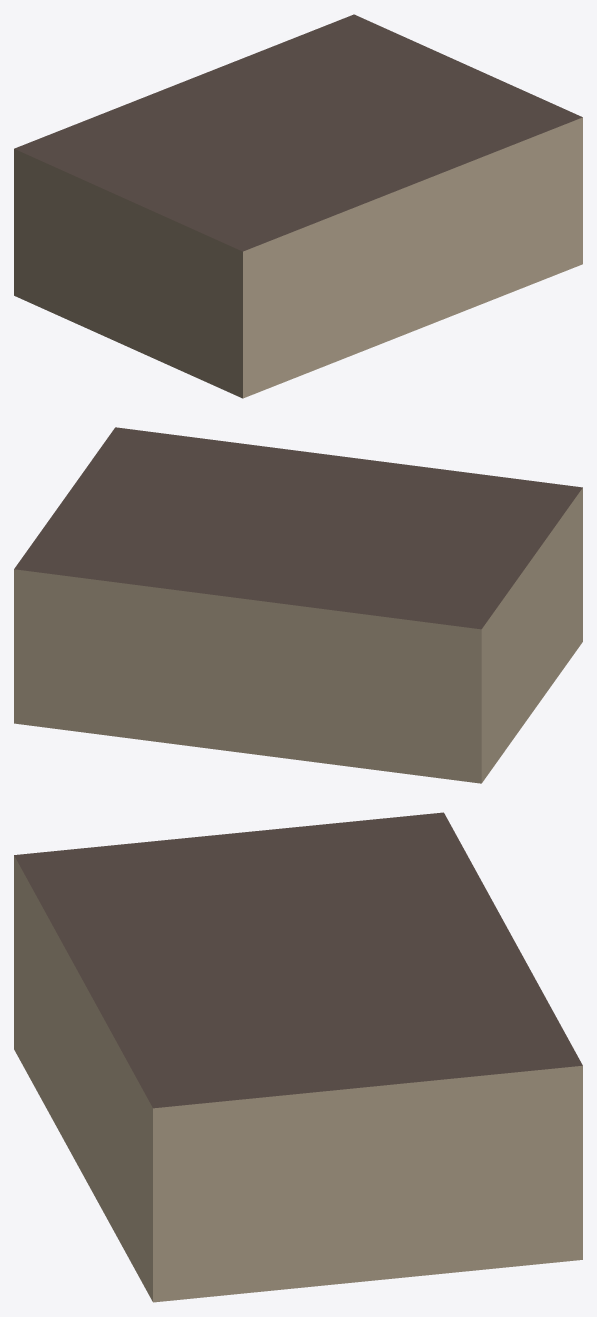
3 views of the same model, one above another, from view 1: azimuth 30°, elevation 25°; view 2: azimuth 150°, elevation 25°; view 3: azimuth 270°, elevation 25° (orthographic). The views are drawn at different scales.
Parts seen in each view (by area): view 1: HP-w859091101; view 2: HP-w859091101; view 3: HP-w859091101.
Part boxes in pixels (x1,y1,x2,y2): HP-w859091101: (14, 14, 582, 398); HP-w859091101: (14, 427, 582, 783); HP-w859091101: (14, 812, 582, 1302).
Bounding box in the file's own units: 29.41 × 9 × 23.9.
